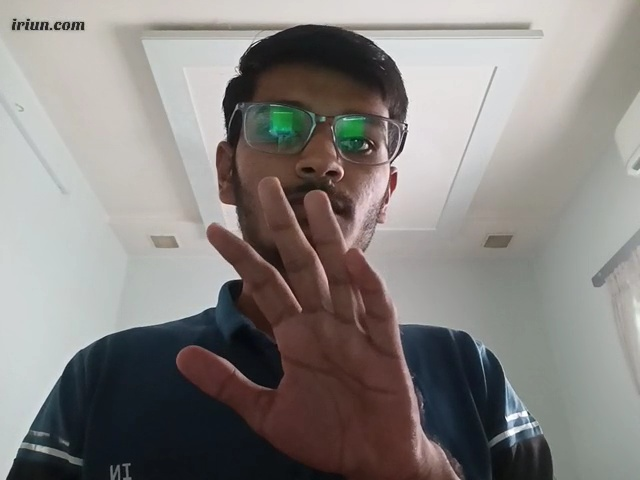Hello: (172, 168, 446, 480)
